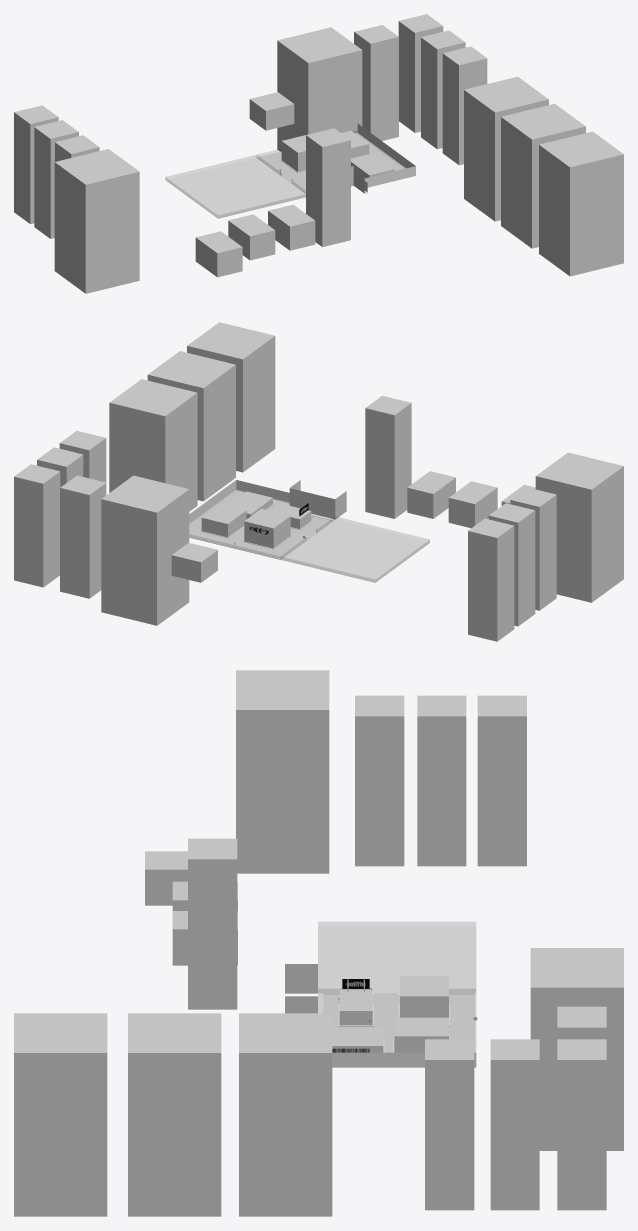
Rendered from environment.glb.
3 renders of one model, top to bottom at view 1: azimuth 30°, elevation 25°; view 2: azimuth 150°, elevation 25°; view 3: azimuth 270°, elevation 25°, orthographic. The views are drawn at different scales.
Visible parts, largest first — view 1: Building1.001, Park, Building3.003, Building3.002, Building3.001, OuterWall, Road, Building1, Building3, ParkFence, Building2; view 2: Building1.001, Park, Road, Building3.001, Building3.002, Building1, Building5, Building2, OuterWall, ParkFence, Building3, Gutters (+1 smaller); view 3: Building1.001, Park, Road, Building1, Building3.003, Building2, Building5, OuterWall, Building3, Building4, Building3.002, ParkFence.
Part boxes in pixels (left/top/right/bottom): Building1.001: left=14, top=14, right=623, bottom=293; Park: left=165, top=158, right=305, bottom=218; Building3.003: left=195, top=231, right=242, bottom=277; Building3.002: left=268, top=204, right=315, bottom=250; Building3.001: left=228, top=214, right=275, bottom=260; OuterWall: left=357, top=123, right=415, bottom=192; Road: left=259, top=134, right=404, bottom=192; Building1: left=281, top=134, right=309, bottom=172; Building3: left=351, top=153, right=394, bottom=178; ParkFence: left=165, top=155, right=305, bottom=217; Building2: left=341, top=130, right=369, bottom=158; Building1.001: left=14, top=322, right=623, bottom=641; Park: left=281, top=520, right=429, bottom=582; Road: left=189, top=490, right=331, bottom=558; Building3.001: left=448, top=481, right=497, bottom=528; Building3.002: left=407, top=471, right=455, bottom=518; Building1: left=244, top=509, right=290, bottom=548; Building5: left=289, top=480, right=346, bottom=519; Building2: left=201, top=504, right=246, bottom=537; OuterWall: left=189, top=480, right=289, bottom=523; ParkFence: left=281, top=517, right=429, bottom=581; Building3: left=228, top=491, right=272, bottom=518; Gutters: left=189, top=490, right=335, bottom=559; Building1.001: left=14, top=670, right=623, bottom=1216; Park: left=318, top=926, right=476, bottom=993; Road: left=323, top=993, right=474, bottom=1052; Building1: left=400, top=975, right=448, bottom=1017; Building3.003: left=145, top=851, right=187, bottom=905; Building2: left=394, top=1017, right=448, bottom=1052; Building5: left=285, top=964, right=317, bottom=1013; OuterWall: left=332, top=1052, right=476, bottom=1067; Building3: left=332, top=1027, right=383, bottom=1052; Building4: left=339, top=990, right=372, bottom=1025; Building3.002: left=172, top=911, right=237, bottom=965; ParkFence: left=318, top=922, right=475, bottom=992.
Size of what is drawn, in the model's own units: 295 by 83.44 by 223.
Materials: 16 (9 with a texture image).
